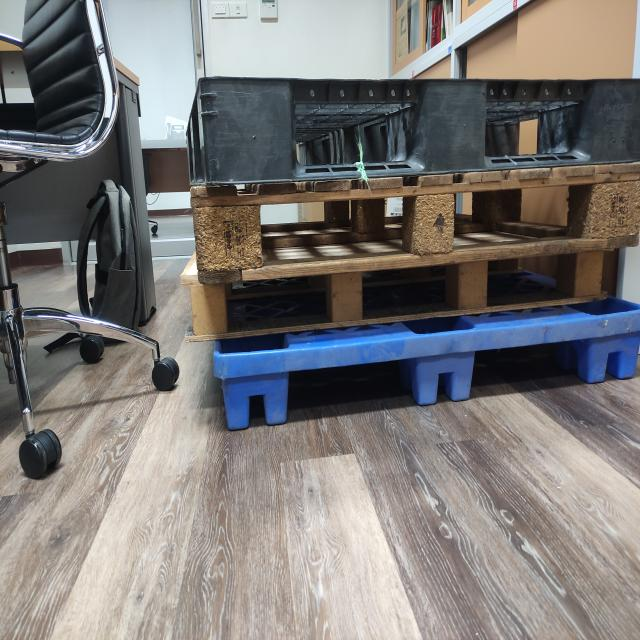block: (198, 79, 296, 178), (414, 79, 488, 174), (185, 199, 266, 274), (586, 78, 640, 163), (220, 370, 290, 429), (585, 177, 640, 237), (413, 179, 454, 256), (415, 357, 477, 407), (586, 338, 640, 382), (189, 285, 232, 340), (328, 271, 366, 322), (352, 190, 388, 240), (454, 257, 490, 306), (495, 182, 526, 231), (579, 251, 606, 302)
front: (191, 163, 640, 278), (221, 310, 640, 432), (185, 237, 635, 343), (191, 76, 638, 179)
